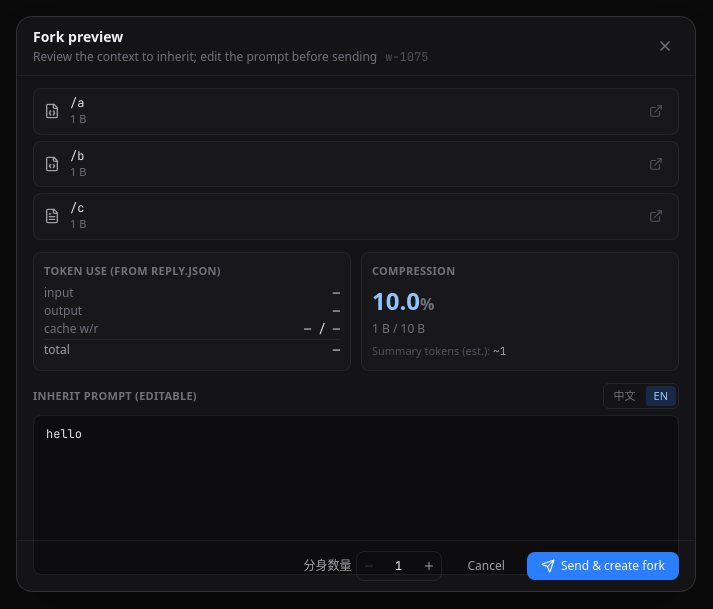
Test: ForkConfirmModal › keeps the modal open and reports progress when a later fork fails
Expected: the button "Send & create fork" is enabled, top-left (527, 552), bottom-right (679, 580)
Replace the text in the number field with "2". click: (398, 566)
box: top-left (380, 552), bottom-right (416, 580)
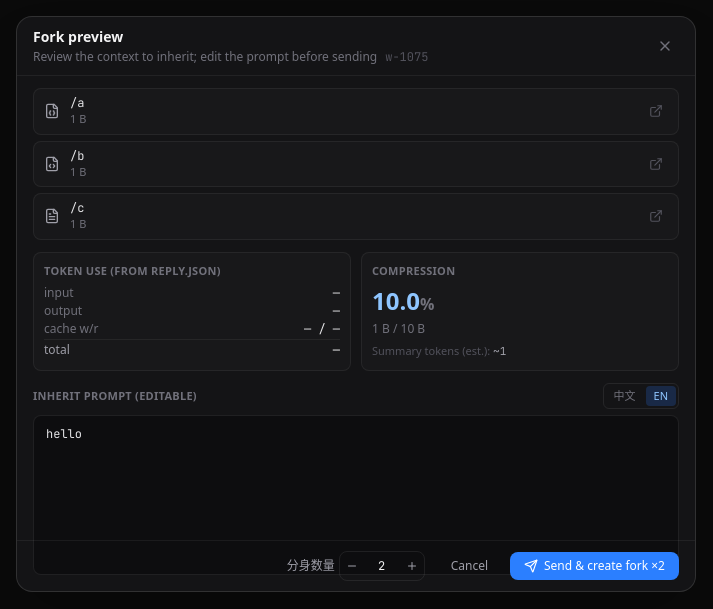
Click the button "Send & create fork ×2". click: (594, 566)
box: top-left (510, 552), bottom-right (679, 580)
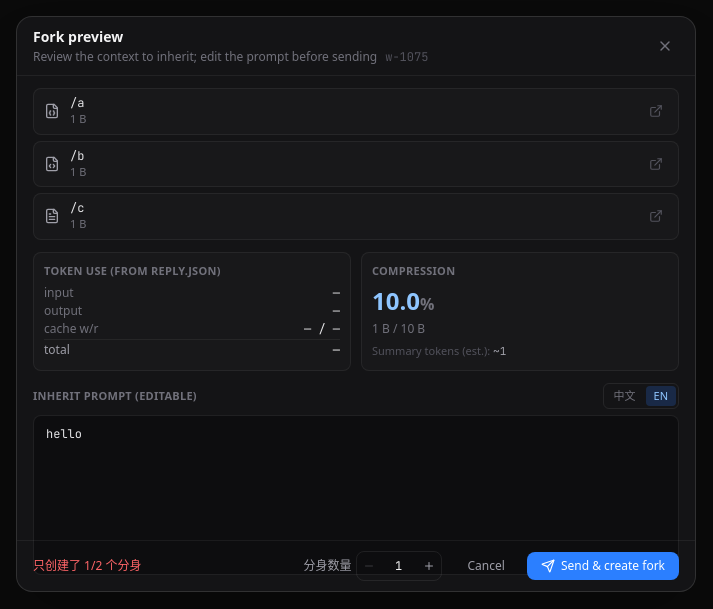
Now the number field holds "1", box top-left (380, 552), bottom-right (416, 580)
